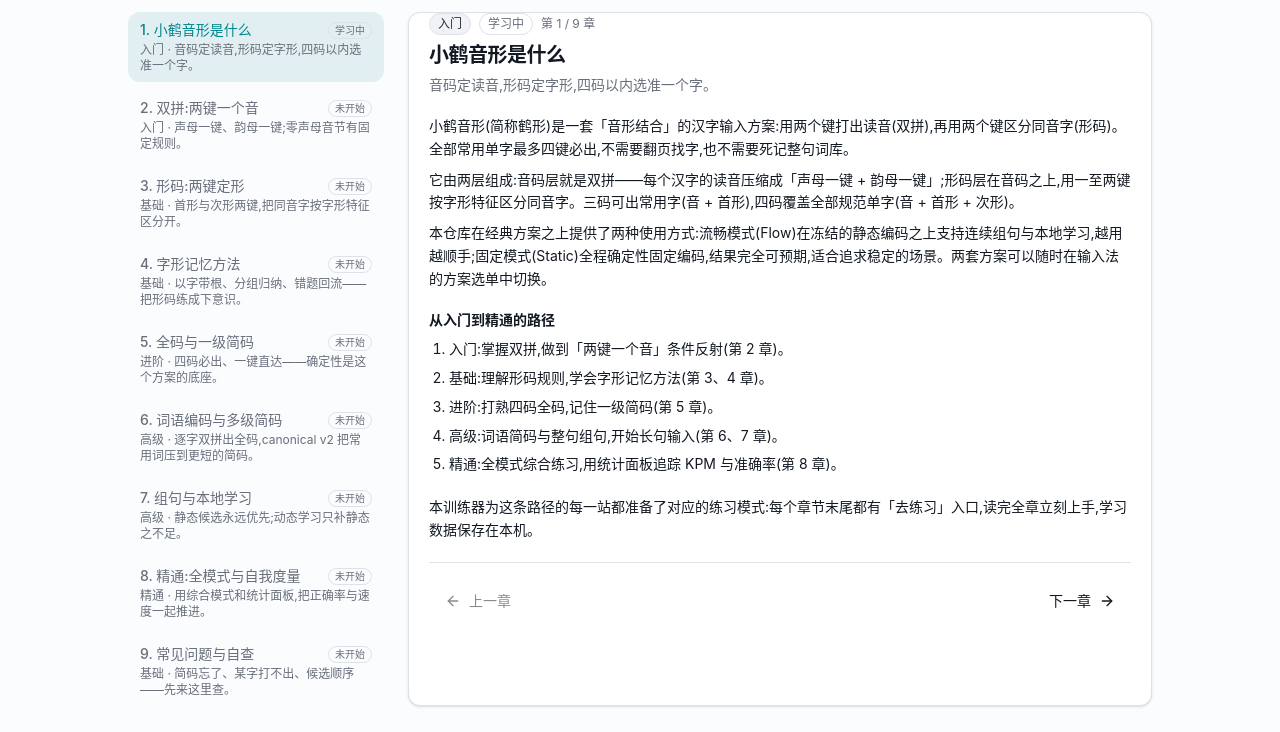
it: LearnView › 章节建议状态徽标:打开过的章节显示「学习中」,其余「未开始」
The image size is (1280, 732).
Check: the 1st text "学习中" is shown, box [328,22,372,38]
// 建议性标签:切换章节后徽标随之渲染,但不拦截任何内容。
Click the button "3. 形码:两键定形 未开始 基础 · 首形与次形两键,把同音字按字形特征区分开。": (256, 203) [128,168,384,238]
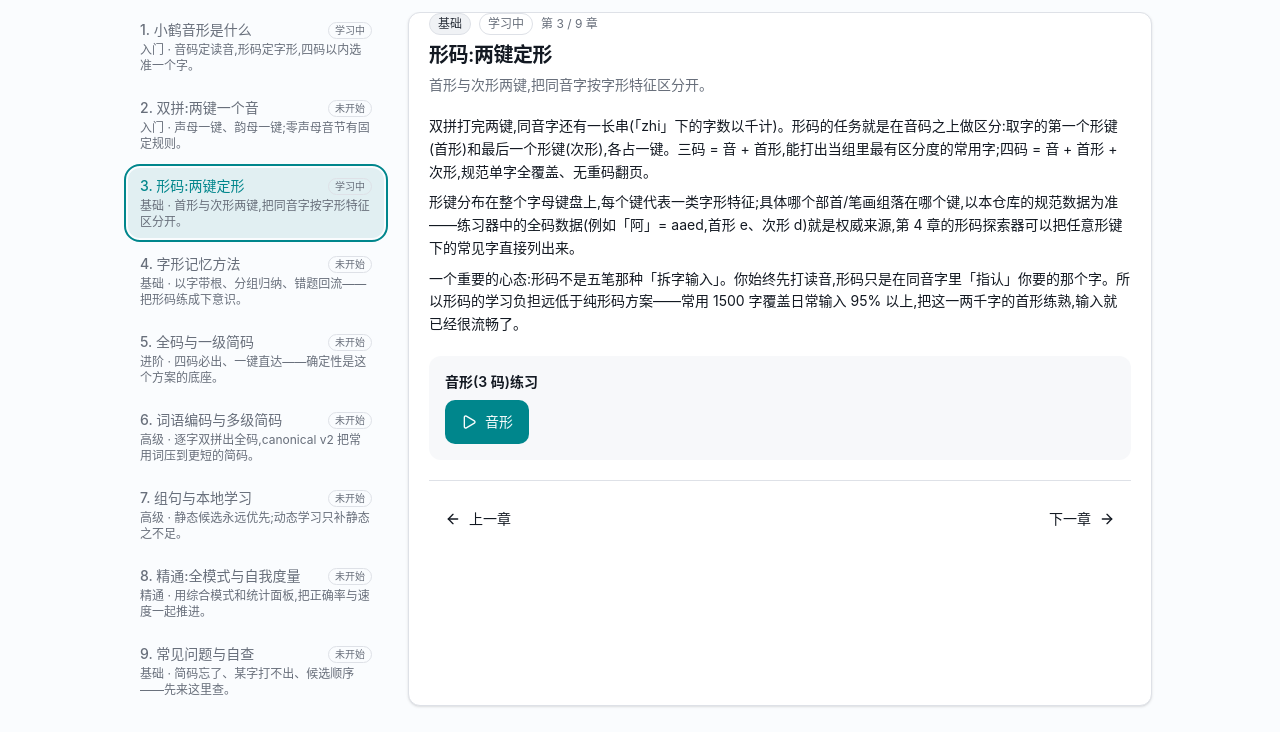
Check: the heading "形码:两键定形" is shown, box [429,43,552,67]
